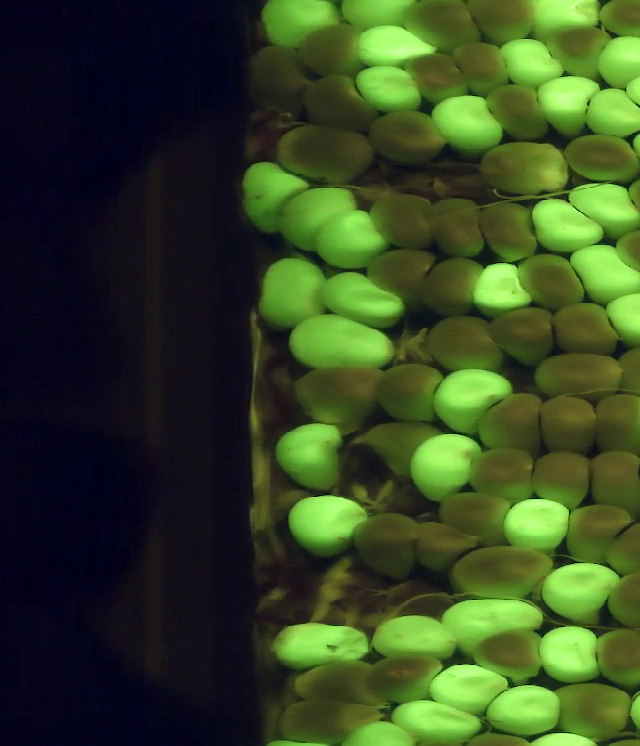fluorescent: (269, 179, 370, 257), (434, 591, 546, 659), (285, 311, 402, 375), (263, 415, 350, 497), (229, 156, 313, 240), (427, 362, 521, 437), (312, 266, 413, 335), (406, 427, 488, 507), (281, 491, 371, 563), (254, 253, 330, 338), (536, 555, 626, 624), (266, 620, 379, 674), (381, 691, 487, 746), (424, 659, 517, 720), (524, 193, 612, 257), (427, 90, 507, 160), (309, 207, 392, 274), (367, 608, 462, 666), (497, 30, 574, 101), (566, 240, 640, 311), (496, 494, 574, 559), (255, 1, 348, 55), (478, 682, 564, 740), (565, 176, 640, 240), (532, 621, 605, 686), (536, 68, 603, 138), (349, 60, 432, 116), (352, 23, 444, 73), (465, 256, 539, 317), (579, 81, 640, 142), (527, 1, 605, 43), (590, 29, 640, 90), (338, 1, 419, 35), (599, 286, 640, 352)
nonfluorescent: (445, 538, 561, 608), (290, 359, 389, 430), (541, 675, 639, 746), (271, 120, 377, 184), (468, 139, 574, 201), (342, 507, 424, 586), (353, 412, 449, 476), (422, 310, 509, 380), (237, 41, 317, 117), (270, 693, 384, 746), (512, 247, 595, 317), (293, 71, 383, 135), (364, 103, 456, 165), (556, 498, 639, 566), (465, 620, 549, 687), (284, 657, 388, 711), (358, 243, 438, 313), (557, 123, 640, 190), (468, 389, 549, 457), (468, 195, 542, 268), (401, 510, 484, 575), (528, 349, 626, 404), (458, 440, 538, 507), (369, 357, 445, 426), (522, 445, 598, 514), (362, 185, 439, 253), (432, 485, 516, 547), (419, 191, 492, 262), (486, 303, 563, 370), (358, 648, 449, 704), (529, 391, 607, 455), (478, 80, 554, 145), (294, 17, 370, 80), (550, 295, 621, 362), (398, 1, 485, 55), (418, 253, 485, 323), (396, 48, 478, 105), (539, 19, 615, 78), (459, 1, 541, 51), (584, 444, 640, 517), (448, 35, 516, 95), (583, 621, 640, 689), (592, 387, 640, 463), (592, 514, 640, 580), (606, 563, 640, 632), (608, 222, 640, 291), (610, 340, 640, 402), (594, 1, 640, 41)
